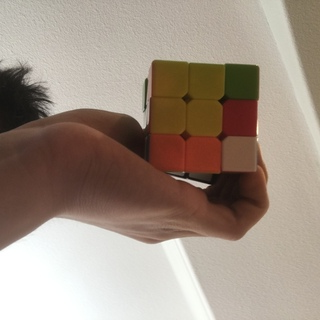face: (151, 61, 260, 173)
